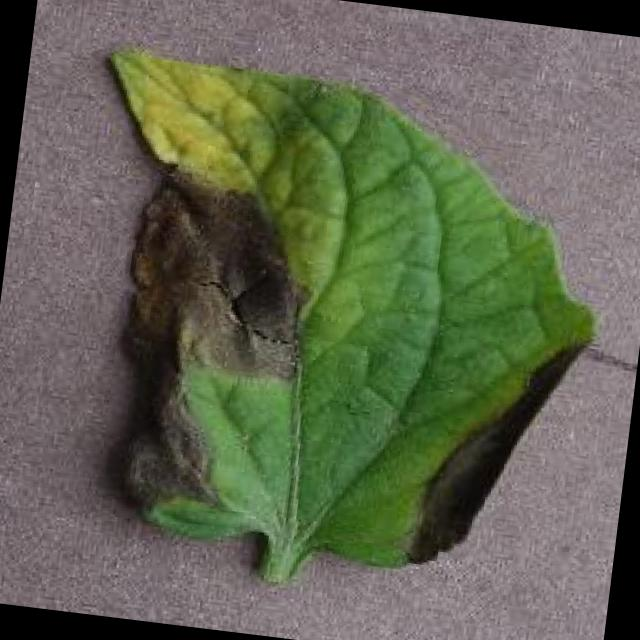Tomato_Early_Blight: (85, 110, 365, 565), (389, 290, 604, 600)
